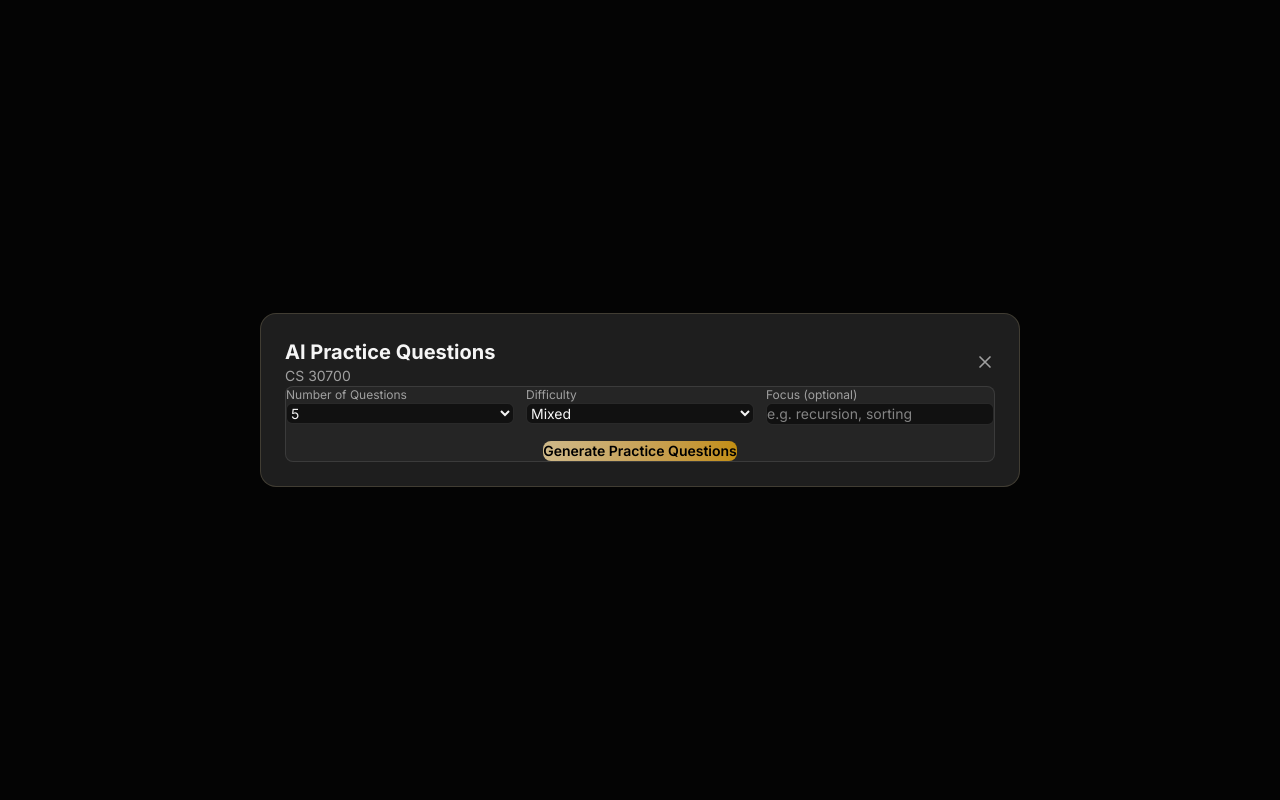
Scenario: PracticeQuestions › generates and displays questions while answers stay hidden initially
This screenshot has width=1280, height=800.
Click the button "Generate Practice Questions": (640, 451) [543, 441, 737, 461]
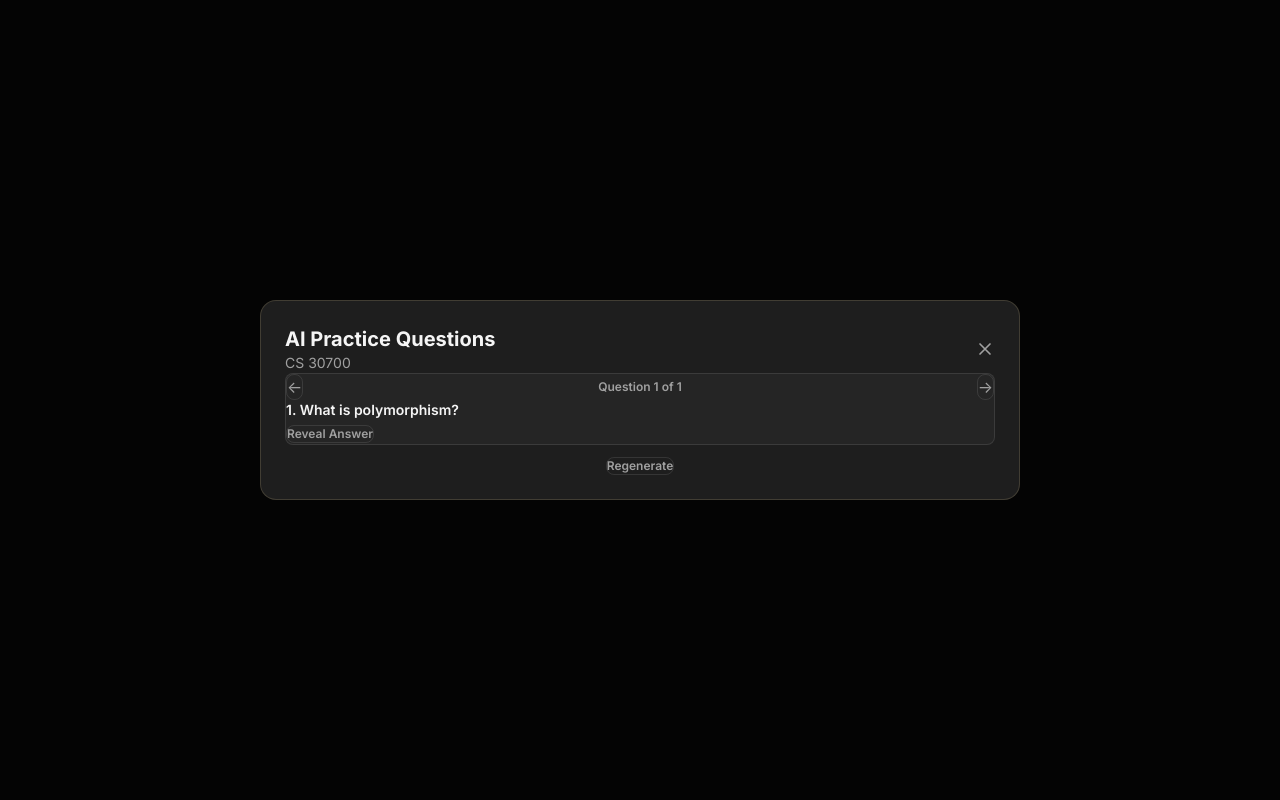
Check: the text "1. What is polymorphism?" is shown, box [286, 401, 459, 418]
Check: the button "Reveal Answer" is shown, box [286, 425, 374, 443]
